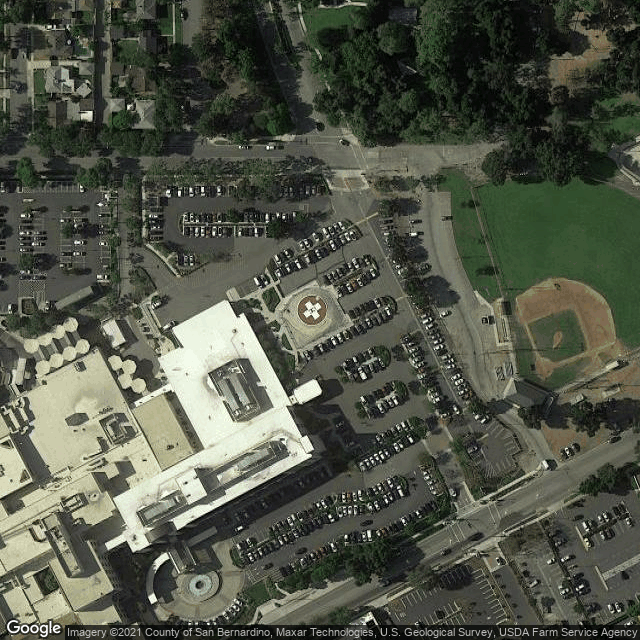Helipad: (295, 296, 332, 326)
